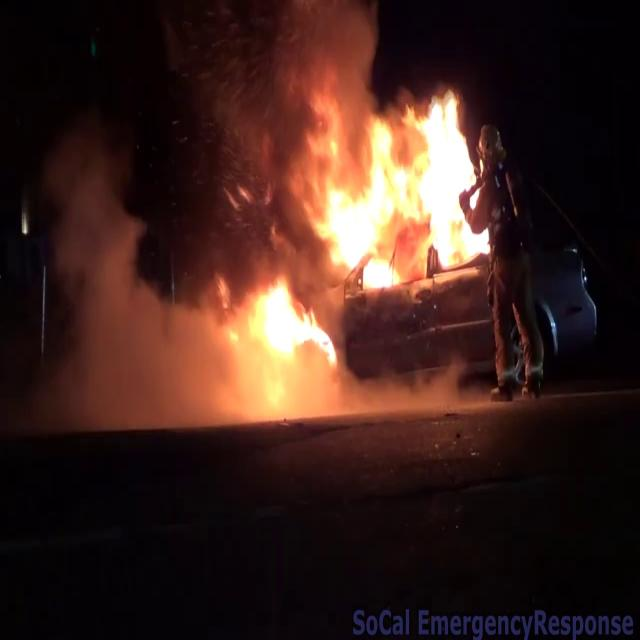Fire: (226, 54, 498, 380)
Smoke: (18, 110, 250, 430)
